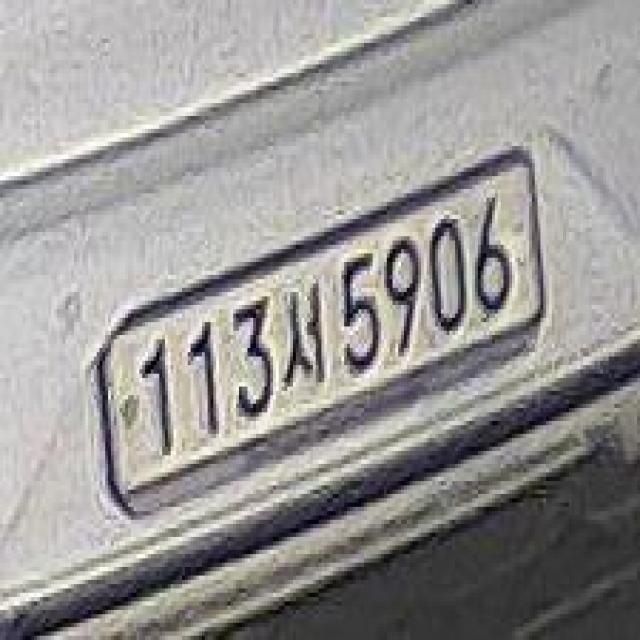illegal_plate: (93, 157, 545, 519)
